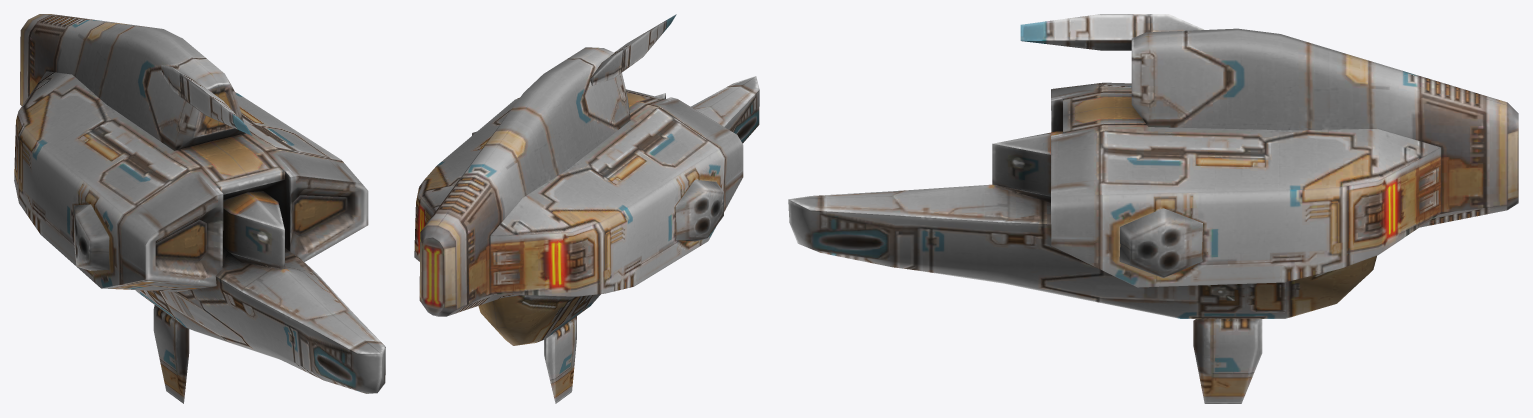
Rendered from yao_sf_pufi_01_t4.glb.
3 renders of one model, left to right at view 1: azimuth 30°, elevation 25°; view 2: azimuth 150°, elevation 25°; view 3: azimuth 270°, elevation 25°, orthographic. The views are drawn at different scales.
Visible parts, largest first — view 1: yao_pulse_fighter_01_LOD0; view 2: yao_pulse_fighter_01_LOD0; view 3: yao_pulse_fighter_01_LOD0.
Part boxes in pixels (x1,y1,x2,y2): yao_pulse_fighter_01_LOD0: (14,14,385,403); yao_pulse_fighter_01_LOD0: (414,14,759,403); yao_pulse_fighter_01_LOD0: (788,14,1518,403).
Size of what is drawn, in the model's own units: 0.2591 by 0.3443 by 0.6082.
Materials: 1 (1 with a texture image).
